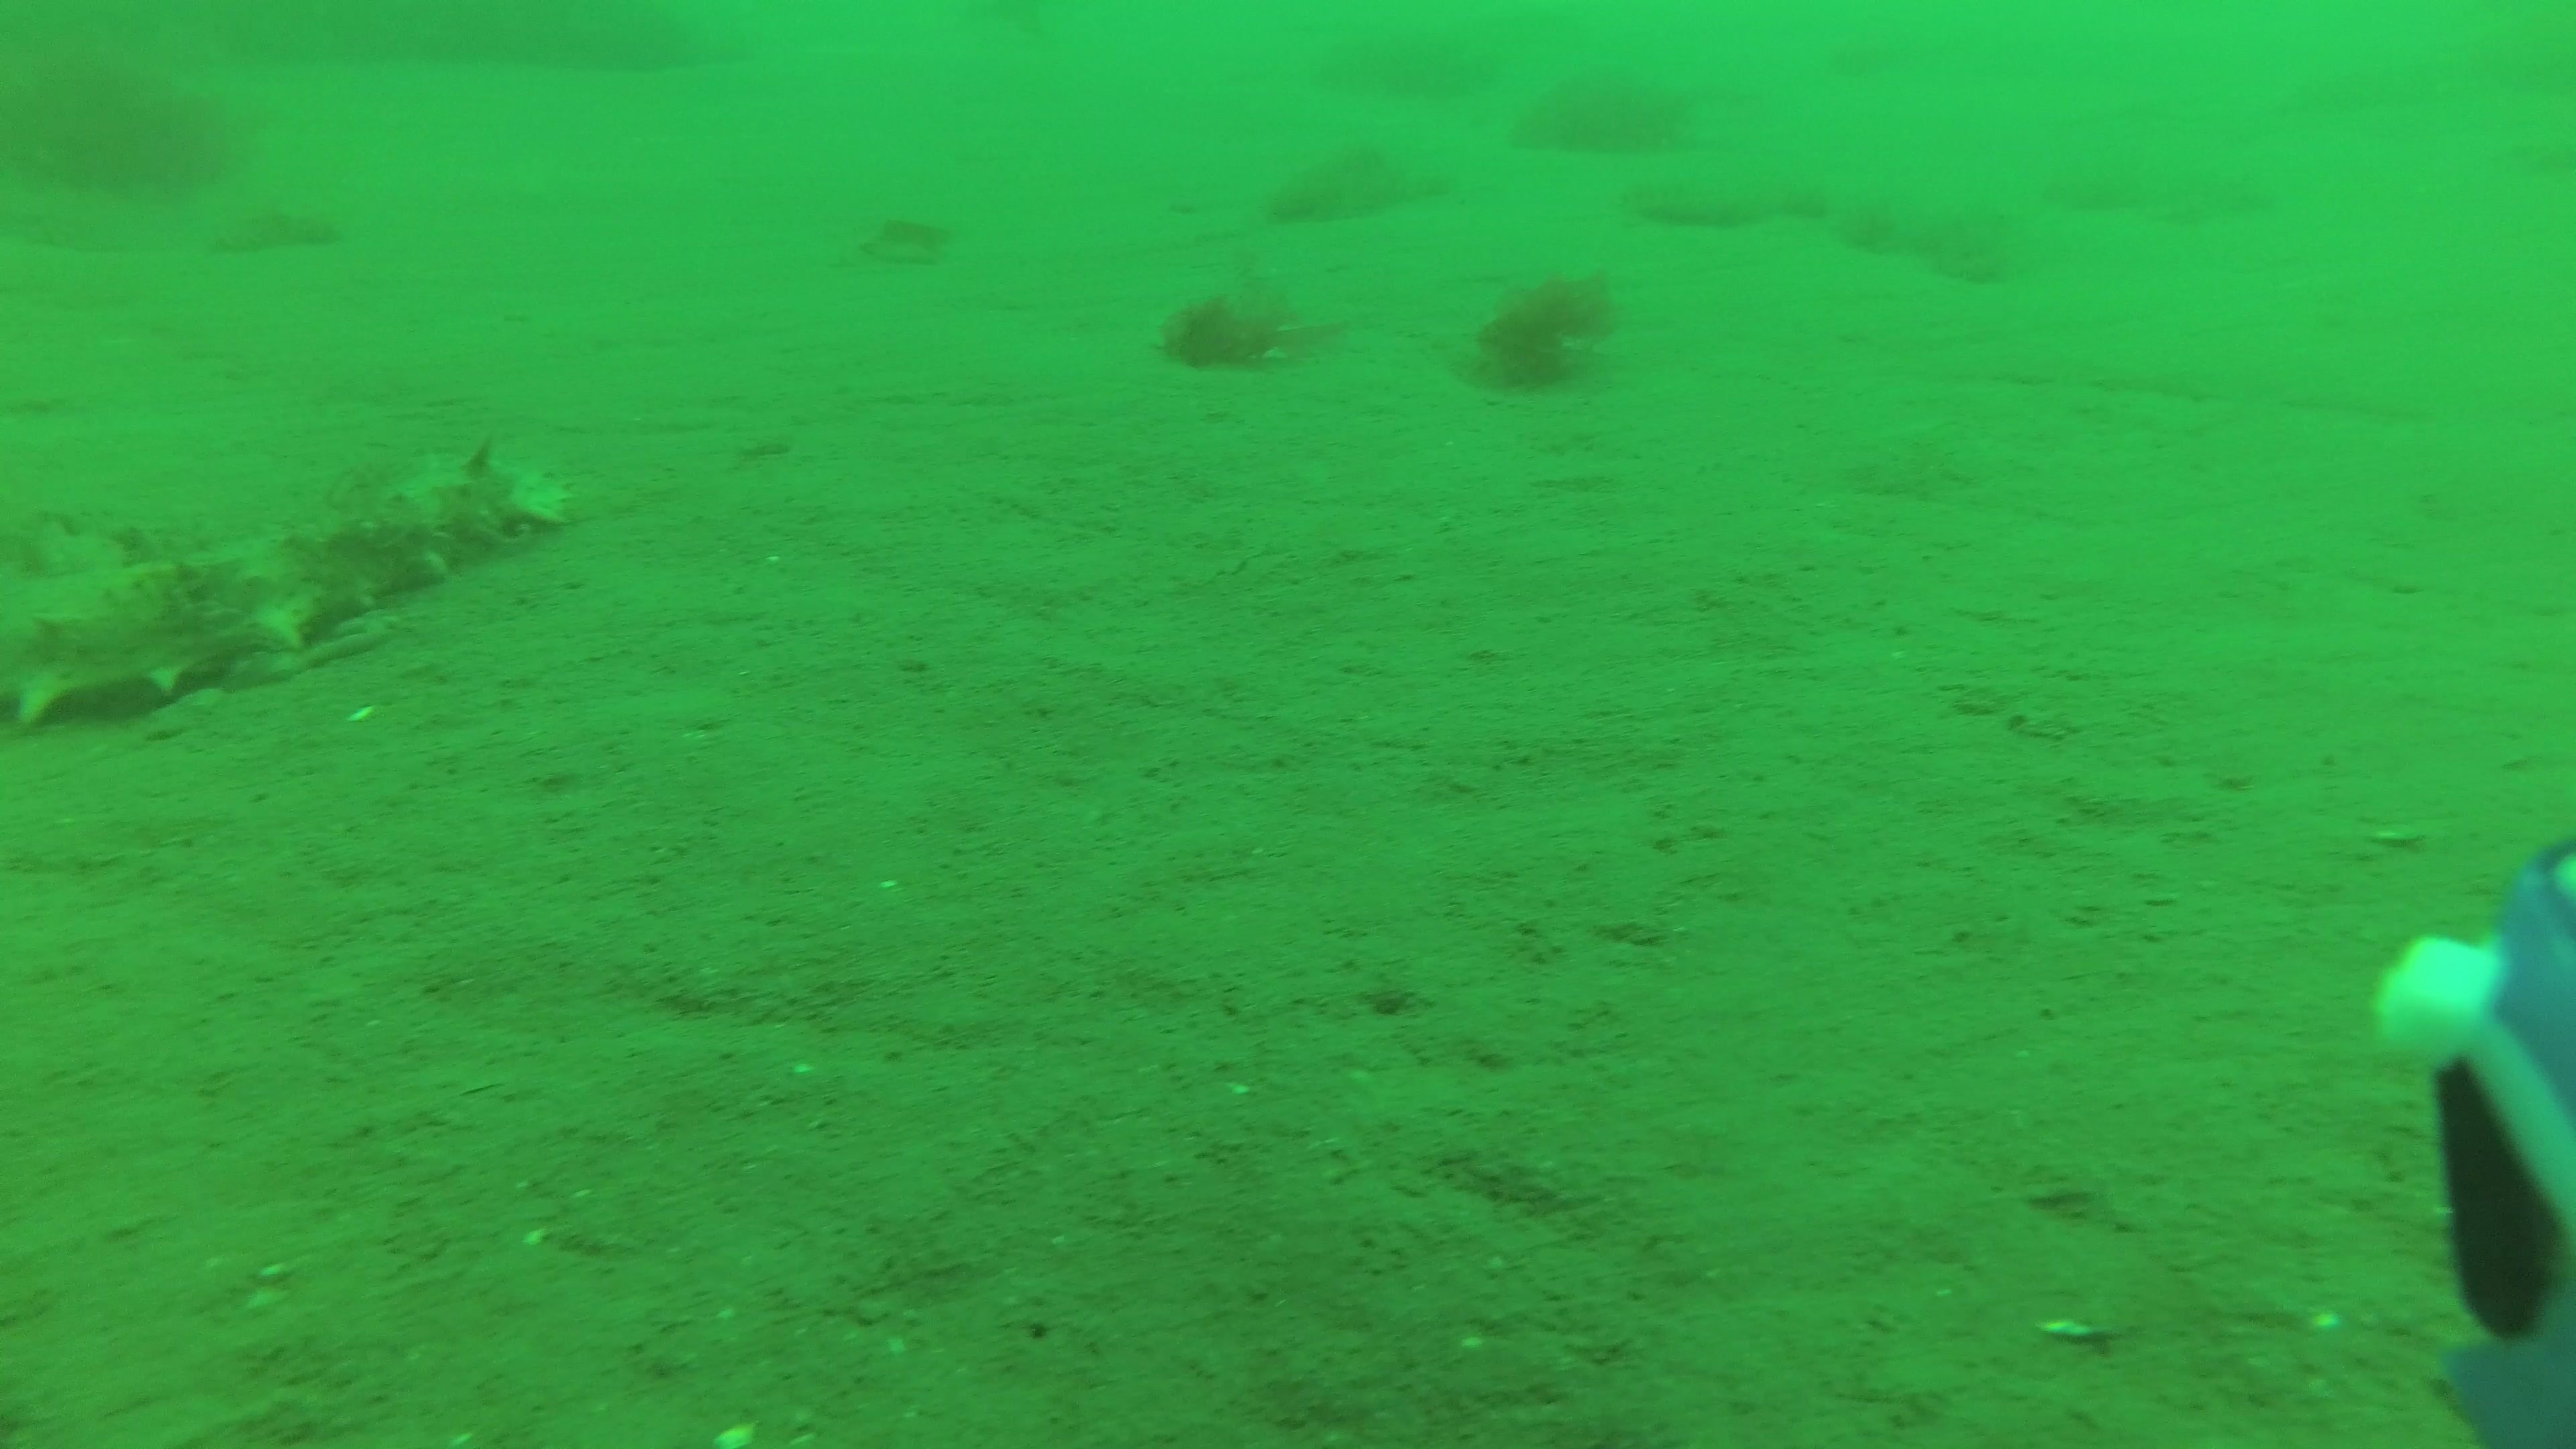holothurian: (5, 428, 579, 738)
